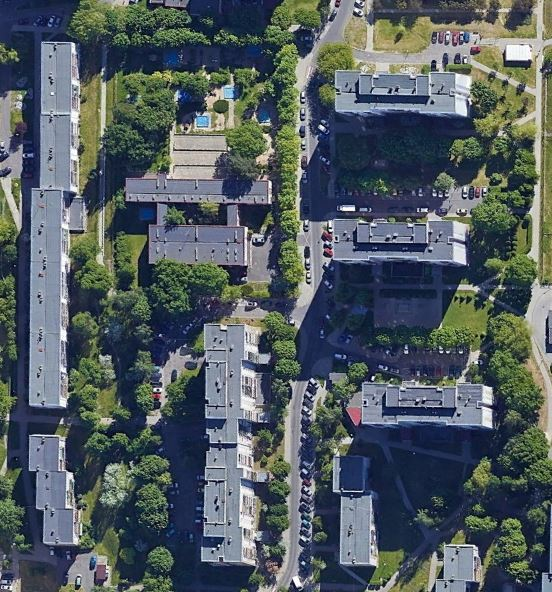block of flats: (21, 37, 84, 413), (195, 320, 266, 571), (120, 168, 278, 274), (330, 67, 480, 122), (24, 432, 88, 553), (330, 216, 480, 267), (358, 380, 502, 429), (327, 451, 381, 571), (432, 541, 485, 592)
